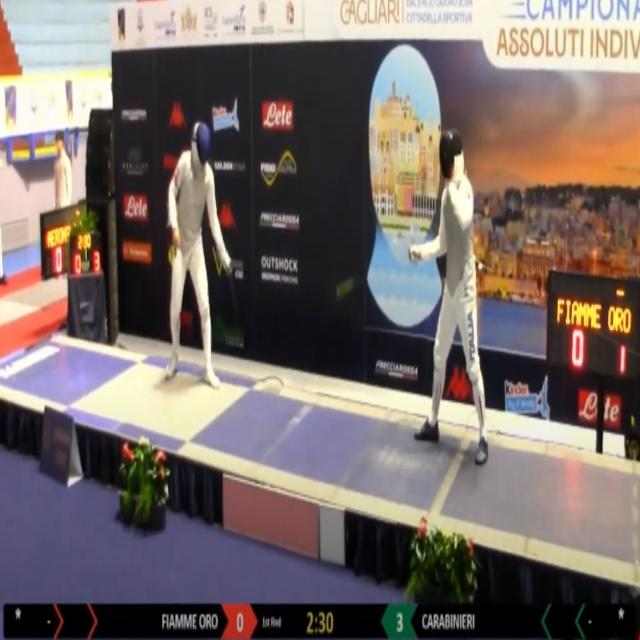fencer: (413, 119, 490, 475), (160, 121, 233, 396)
overlayLeft: (98, 603, 219, 640)
overlayRight: (423, 605, 540, 640)
scoreLeft: (219, 601, 258, 640)
scoreRight: (378, 603, 421, 640)
